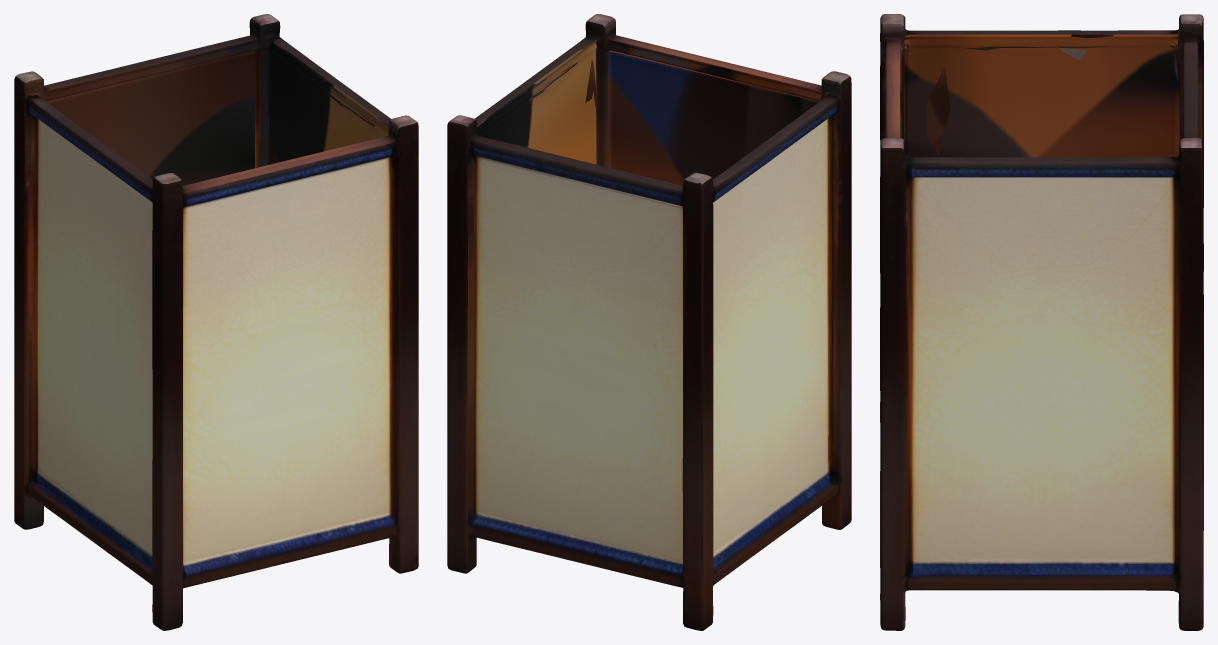
The model's file is traveler_env_coast_iuchi_tower_andon_00001_.glb.
3 views of the same model, side by side, from view 1: azimuth 30°, elevation 25°; view 2: azimuth 150°, elevation 25°; view 3: azimuth 270°, elevation 25° (orthographic). The views are drawn at different scales.
Visible parts, largest first — view 1: temp_mesh.ply; view 2: temp_mesh.ply; view 3: temp_mesh.ply.
Part boxes in pixels (x1=…): temp_mesh.ply: x1=14, y1=14, x2=418, y2=630; temp_mesh.ply: x1=447, y1=14, x2=851, y2=630; temp_mesh.ply: x1=880, y1=14, x2=1203, y2=630.
Size of the model in its own units: 1.06 by 1.76 by 1.07.
1 material, 1 textured.
